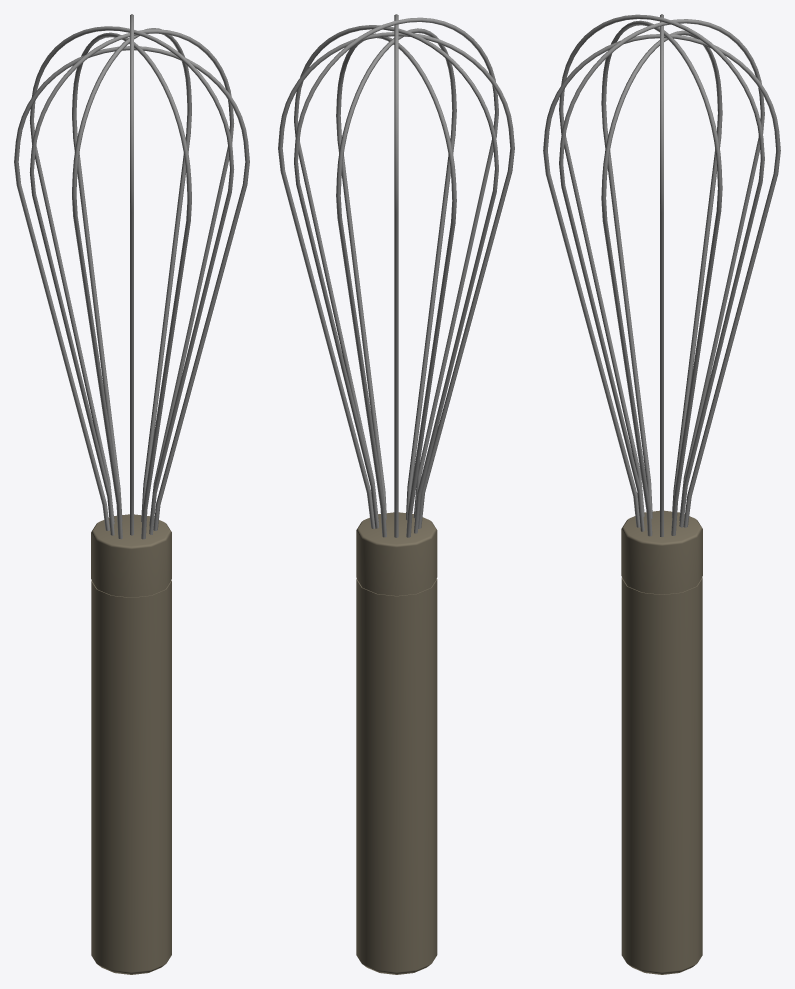
3 views of the same model, side by side, from view 1: azimuth 30°, elevation 25°; view 2: azimuth 150°, elevation 25°; view 3: azimuth 270°, elevation 25° (orthographic).
Visible parts, largest first — view 1: pCylinder13; view 2: pCylinder13; view 3: pCylinder13.
Part boxes in pixels (left/top/right/bottom): pCylinder13: left=14, top=14, right=249, bottom=974; pCylinder13: left=278, top=14, right=514, bottom=974; pCylinder13: left=543, top=14, right=780, bottom=974.
Bounding box in the file's own units: 1.41 × 6.18 × 1.41.
